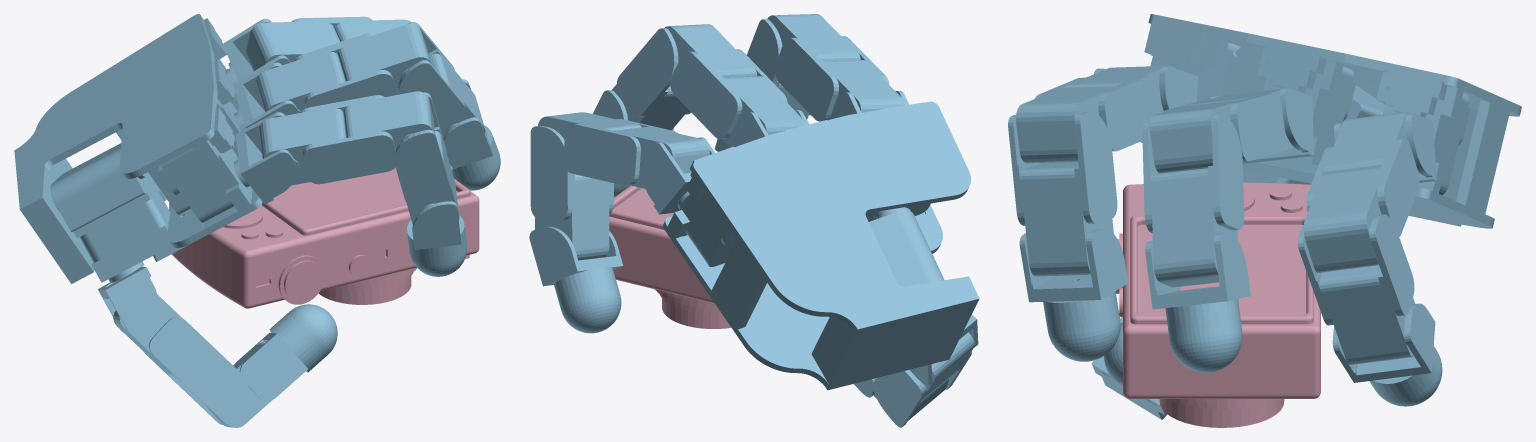
The picture shows the model from 3 angles, left to right: view 1: azimuth 30°, elevation 25°; view 2: azimuth 150°, elevation 25°; view 3: azimuth 270°, elevation 25°; orthographic projection. The views are drawn at different scales.
Parts seen in each view (by area): view 1: world; view 2: world; view 3: world.
Boxes of the visible parts, box(x1,y1,x2,y2) form: world: box(14, 14, 500, 427); world: box(529, 14, 979, 427); world: box(1008, 14, 1521, 427).
Bounding box in the file's own units: 0.2034 × 0.1559 × 0.168.
